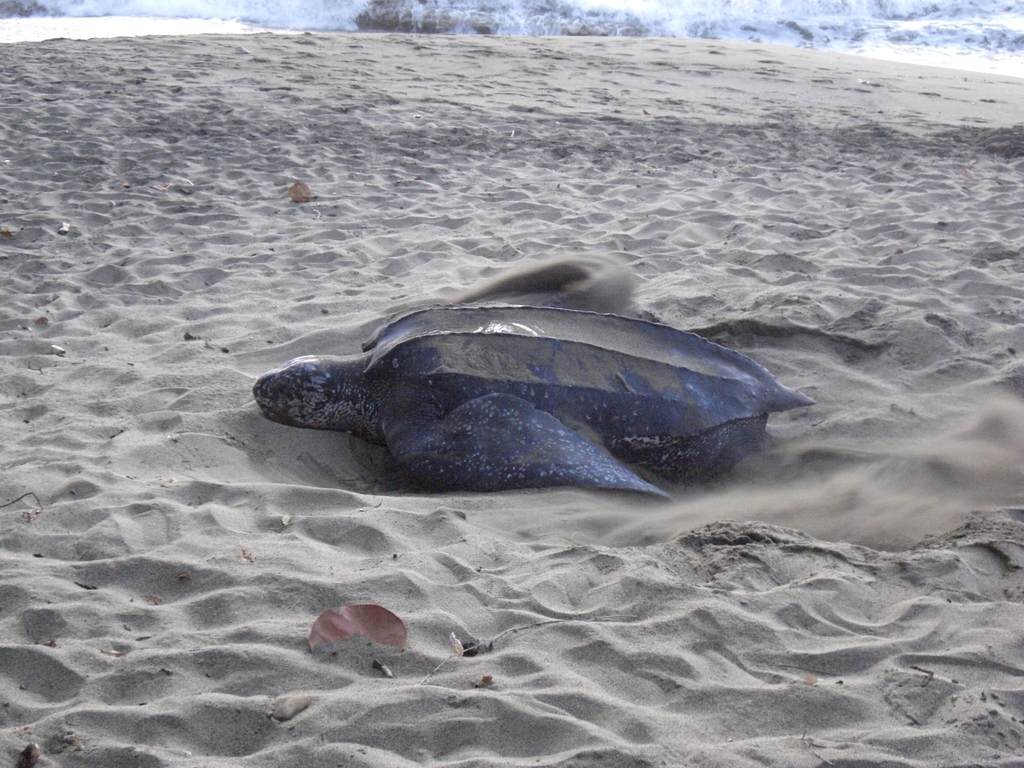Sea turtles: (250, 291, 819, 510)
